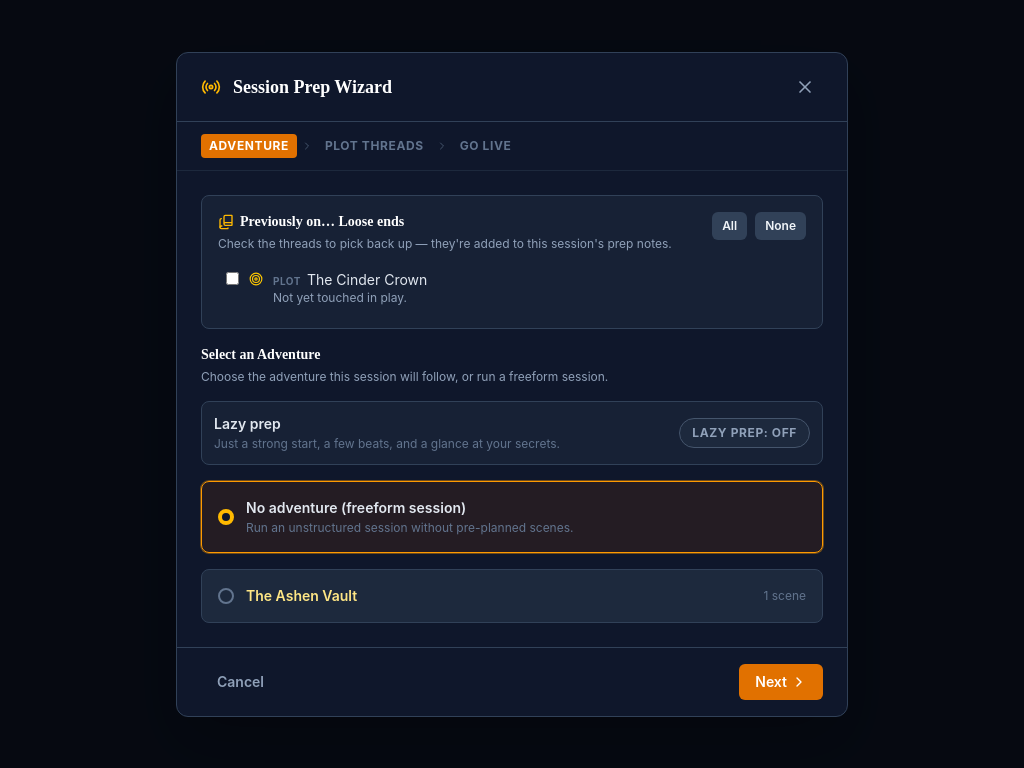
Test case: SessionPrepWizard — the Strong Start step › is a single field whose label is the invitation, not the field name
Click the button "Lazy prep: off": coordinates (745, 432) 679,418 -> 810,448
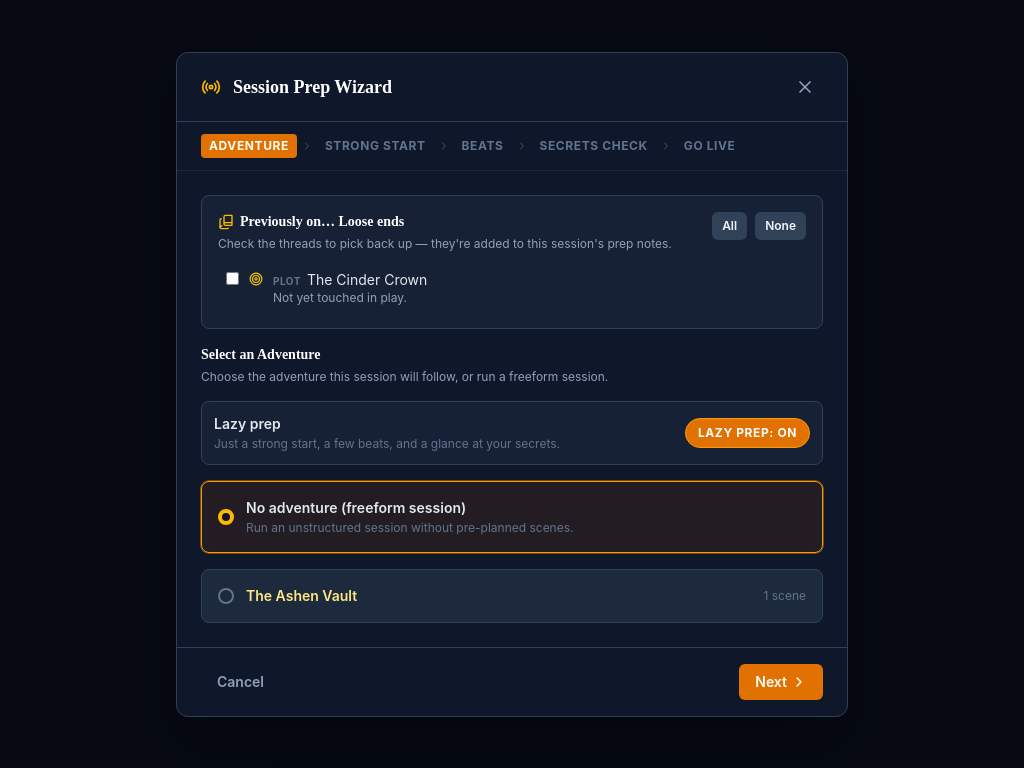
Click the button "Strong Start": coordinates (375, 146) 317,134 -> 434,158
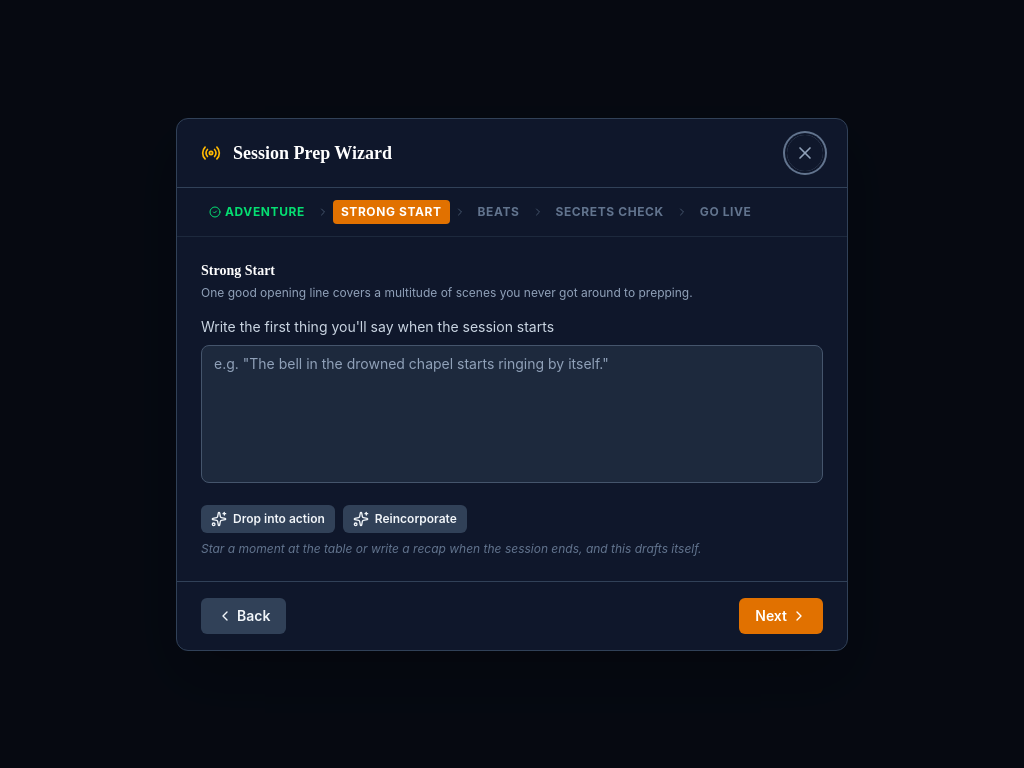
expect the number of text boxes is 1: met, box 201,344 -> 823,482
